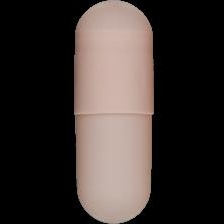55154-4218: (0, 0, 224, 224)
